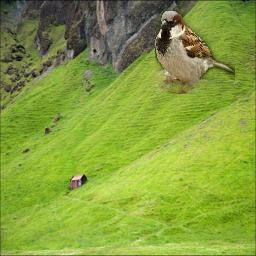Sparrow: (155, 10, 235, 94)
